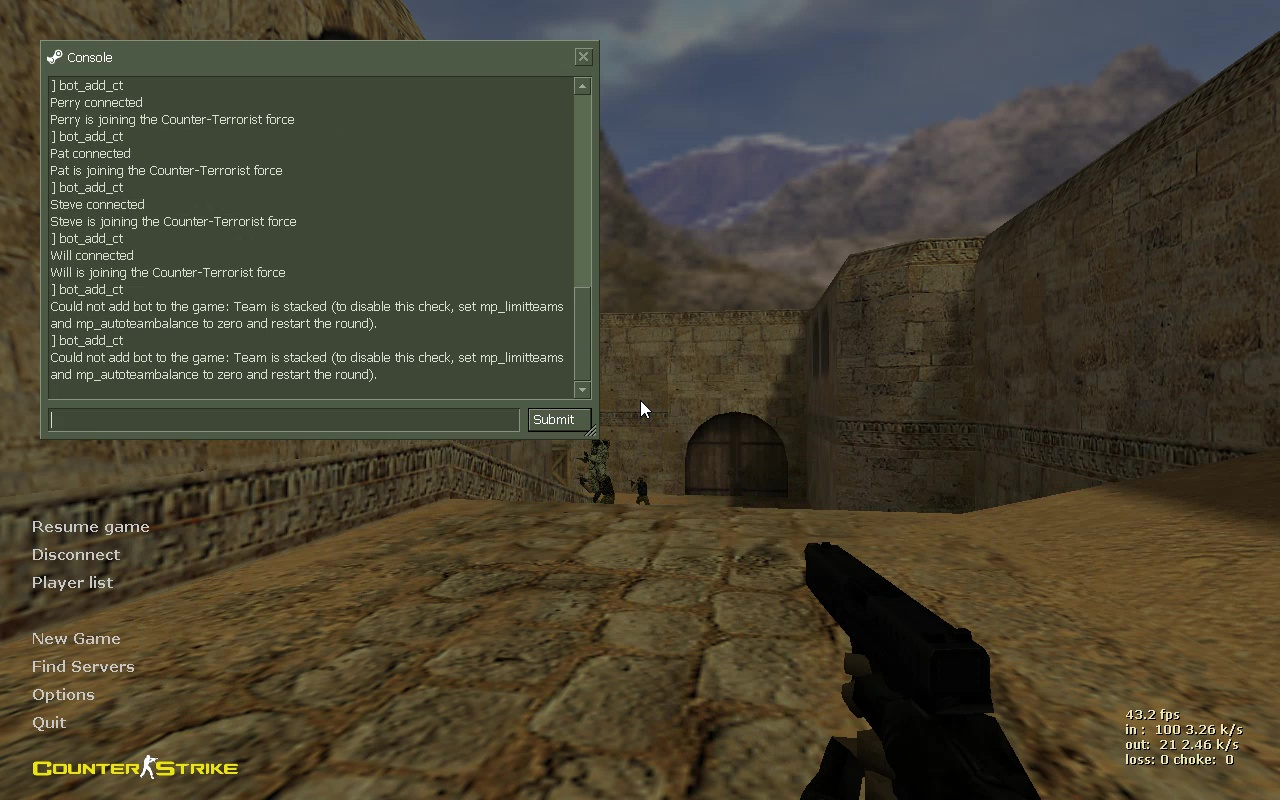terr1: (628, 481, 652, 508)
terr2: (576, 440, 616, 490)
